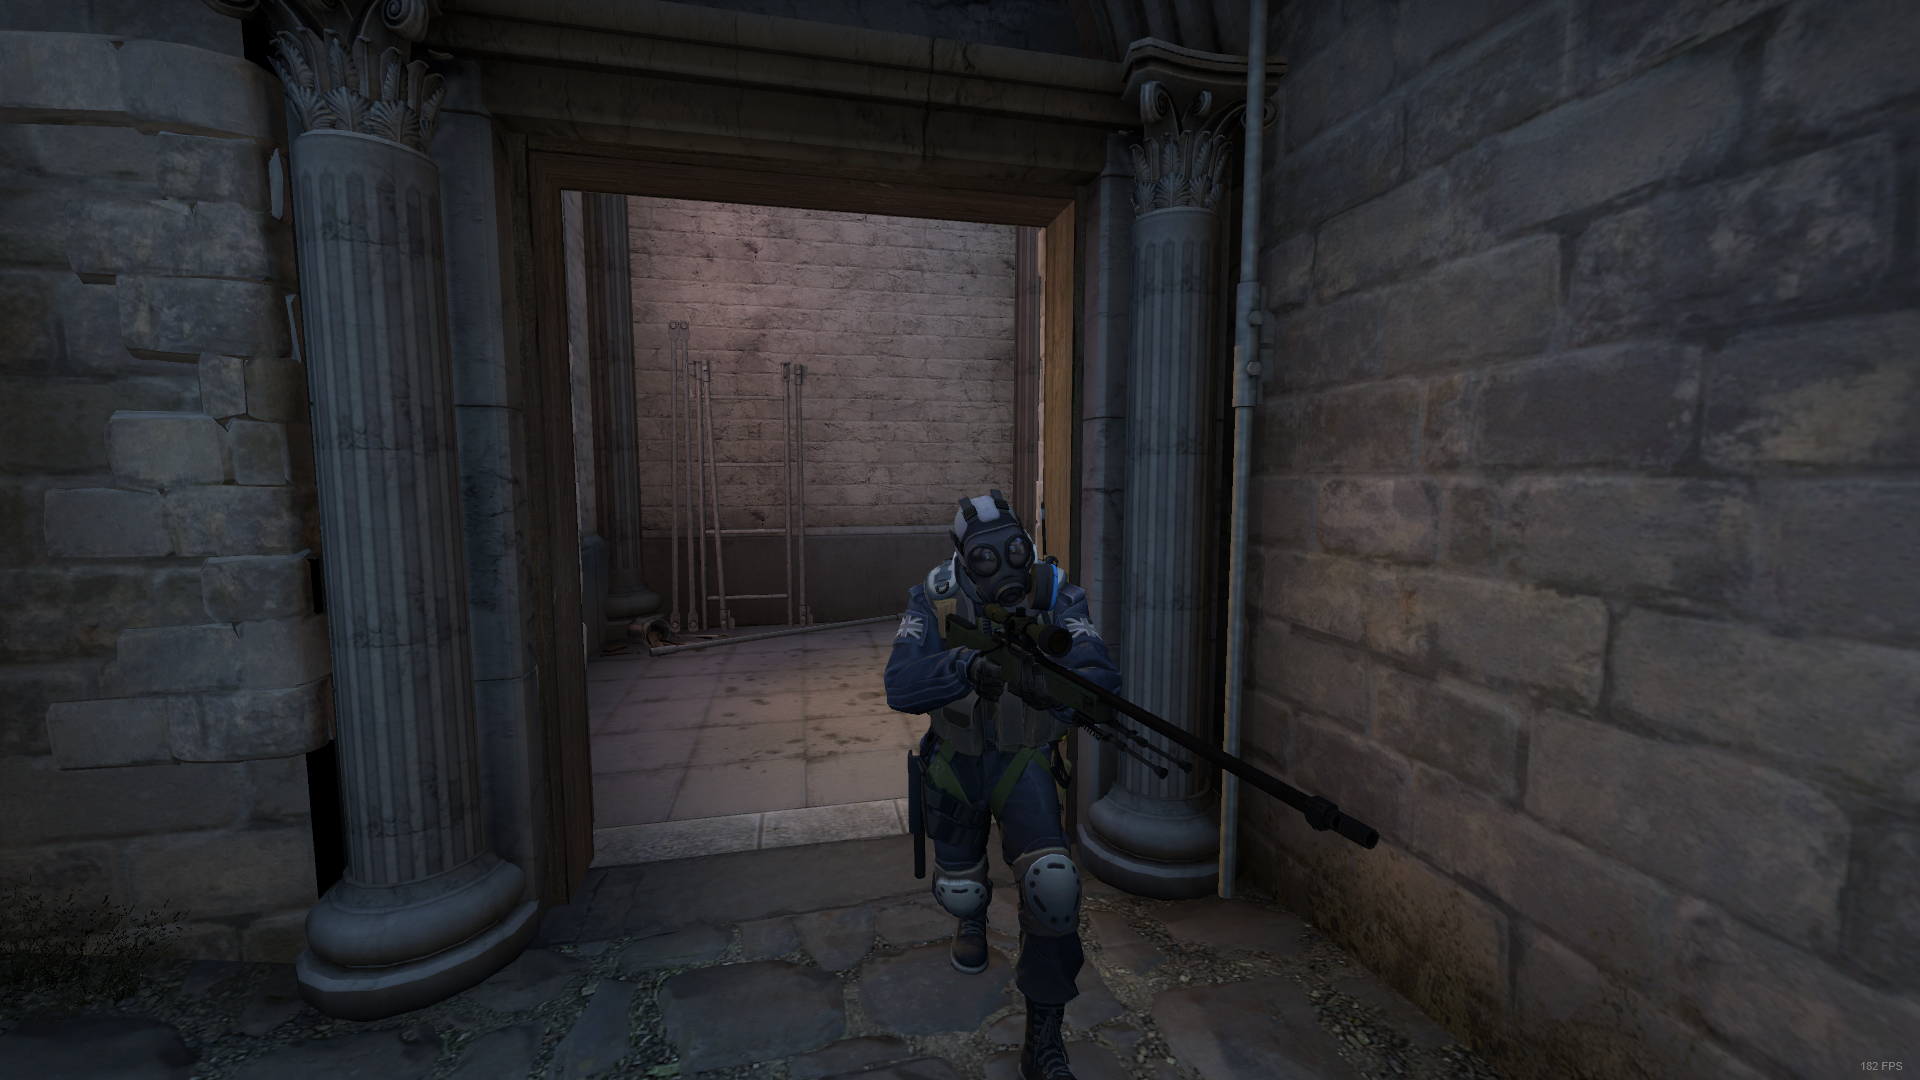ct: (877, 488, 1131, 1073)
